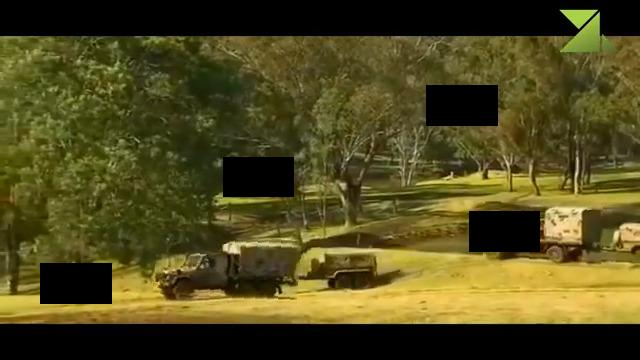MIL_HMMWV: (155, 232, 301, 302), (484, 202, 603, 266)
